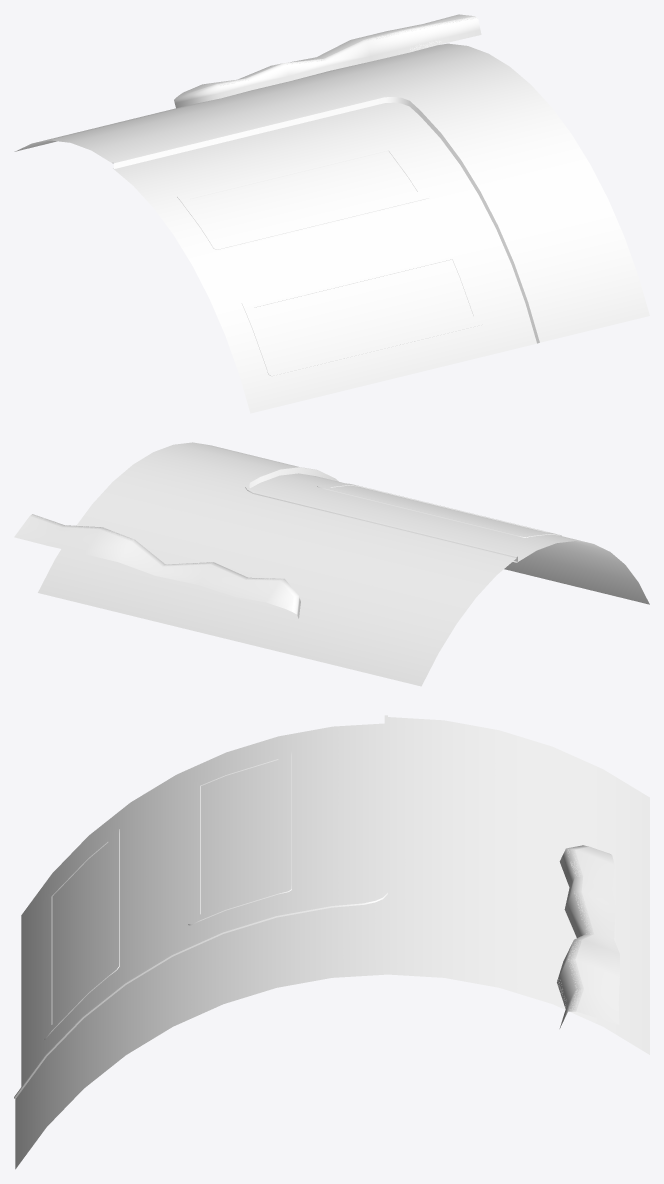
Rendered from grd_Ex_e_ne_0.dae.
3 views of the same model, one above another, from view 1: azimuth 30°, elevation 25°; view 2: azimuth 150°, elevation 25°; view 3: azimuth 270°, elevation 25° (orthographic). The views are drawn at different scales.
Parts seen in each view (by area): view 1: grass_1_0, road1_3_0, renga1_2_0, cliff6_0_0; view 2: grass_1_0, road1_3_0, renga1_2_0, cliff6_0_0; view 3: grass_1_0, road1_3_0, renga1_2_0, cliff6_0_0.
Part boxes in pixels (x1,y1,x2,y2): grass_1_0: (14,14,649,364); road1_3_0: (113,102,536,413); renga1_2_0: (112,95,541,376); cliff6_0_0: (174,16,481,108); grass_1_0: (14,442,603,686); road1_3_0: (250,473,649,604); renga1_2_0: (245,466,561,561); cliff6_0_0: (30,514,300,618); grass_1_0: (15,717,649,1169); road1_3_0: (21,723,384,1086); renga1_2_0: (14,715,387,1098); cliff6_0_0: (557,845,593,1028).
Bounding box in the file's own units: 768 × 254 × 735.
Materials: 4 (1 with a texture image).
